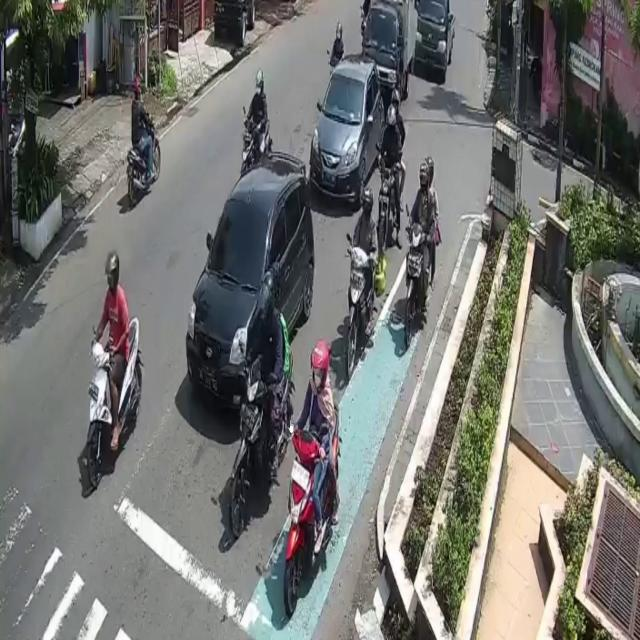car: (186, 154, 312, 412), (309, 55, 384, 202), (415, 0, 455, 74)
motorbike: (228, 353, 295, 544), (284, 400, 340, 614), (87, 316, 142, 491), (345, 246, 375, 382), (128, 112, 161, 210), (405, 224, 429, 349), (379, 166, 396, 252)
truck: (362, 0, 413, 101)
